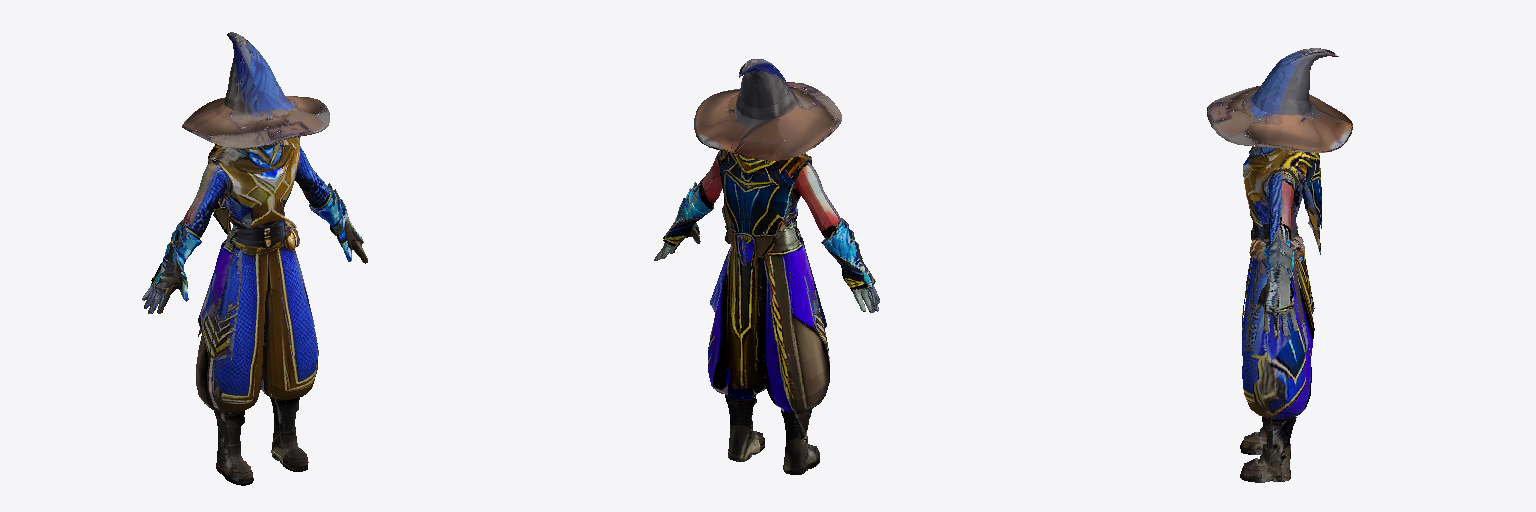
3 views of the same model, side by side, from view 1: azimuth 30°, elevation 25°; view 2: azimuth 150°, elevation 25°; view 3: azimuth 270°, elevation 25° (orthographic).
Visible parts, largest first — view 1: Plane_008; view 2: Plane_008; view 3: Plane_008.
Part boxes in pixels (x1,y1,x2,y2): Plane_008: (142, 32, 367, 485); Plane_008: (654, 59, 879, 474); Plane_008: (1207, 48, 1352, 482).
Bounding box in the file's own units: 3.56 × 6.48 × 2.07.
10 materials, 10 textured.